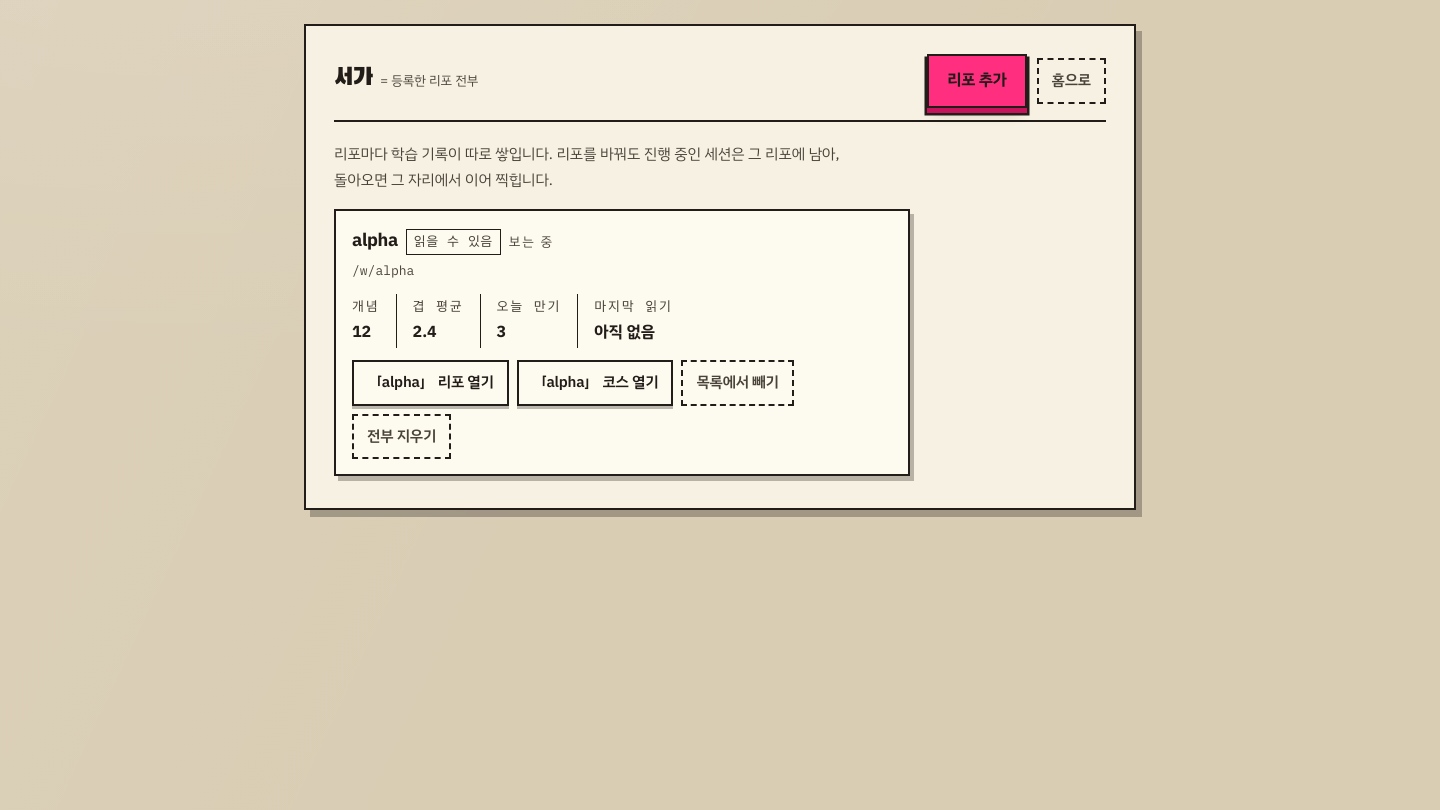
Test: ReposScreen › 「그만두기」는 아무것도 지우지 않고 확인만 닫는다
Expected: the number of list items is 1, [334,209,910,476]
What coordinates should you click on to do the following:
click the button "전부 지우기"
I would click on:
 (402, 436)
Its box is [352,414,451,459].
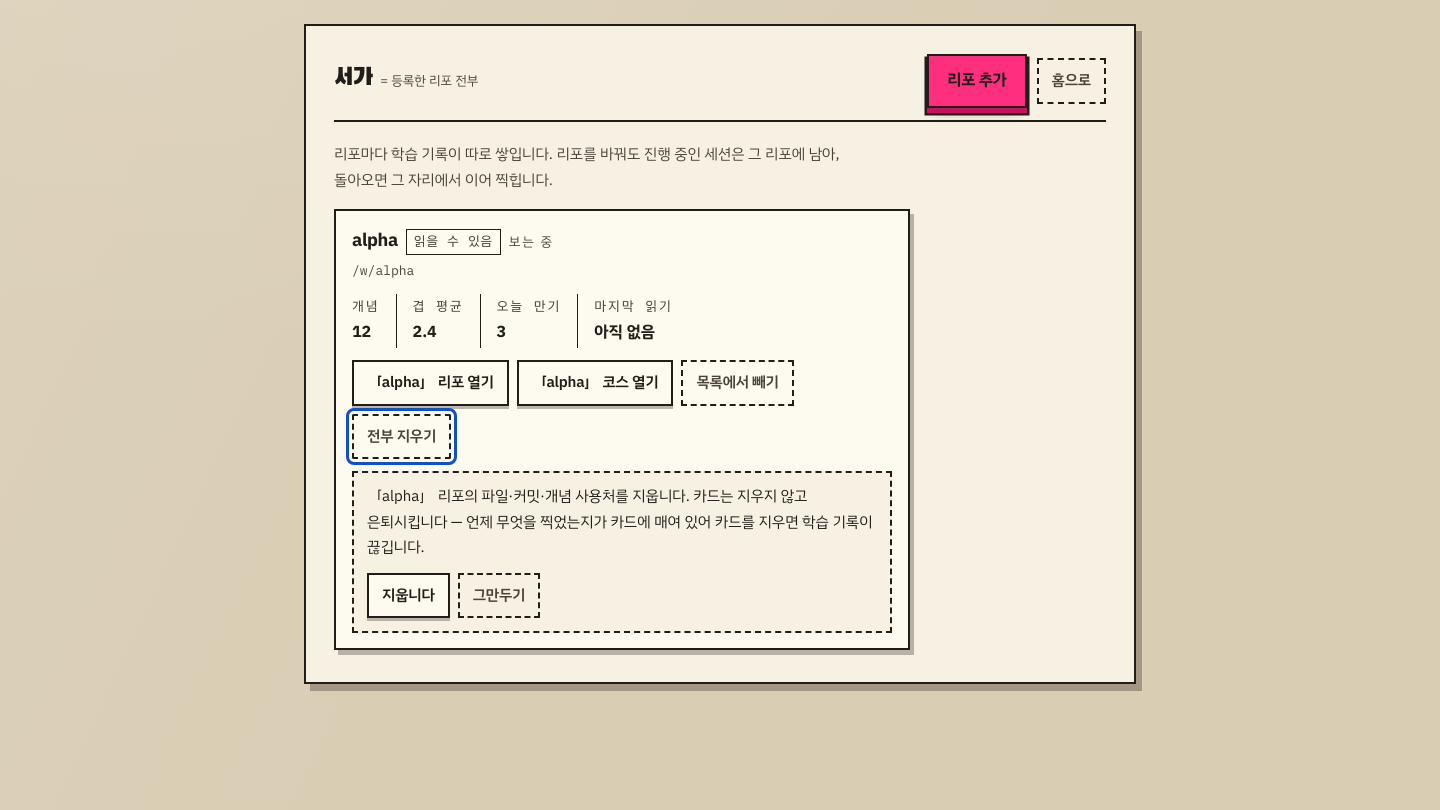
What coordinates should you click on to do the following:
click the button "그만두기"
I would click on:
 (499, 595)
Its box is [458,573,540,618].
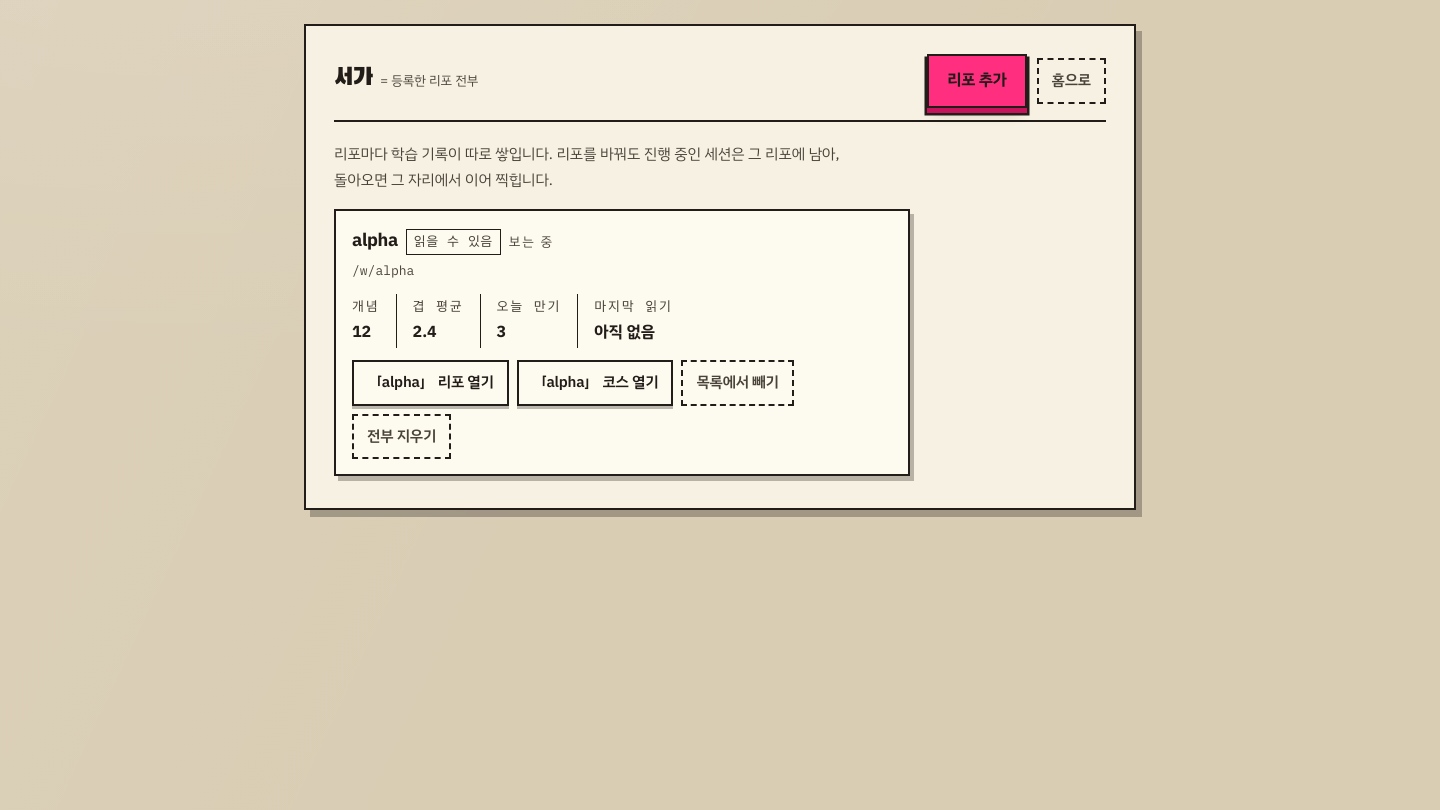
Expected: the text "지웁니다" is gone
